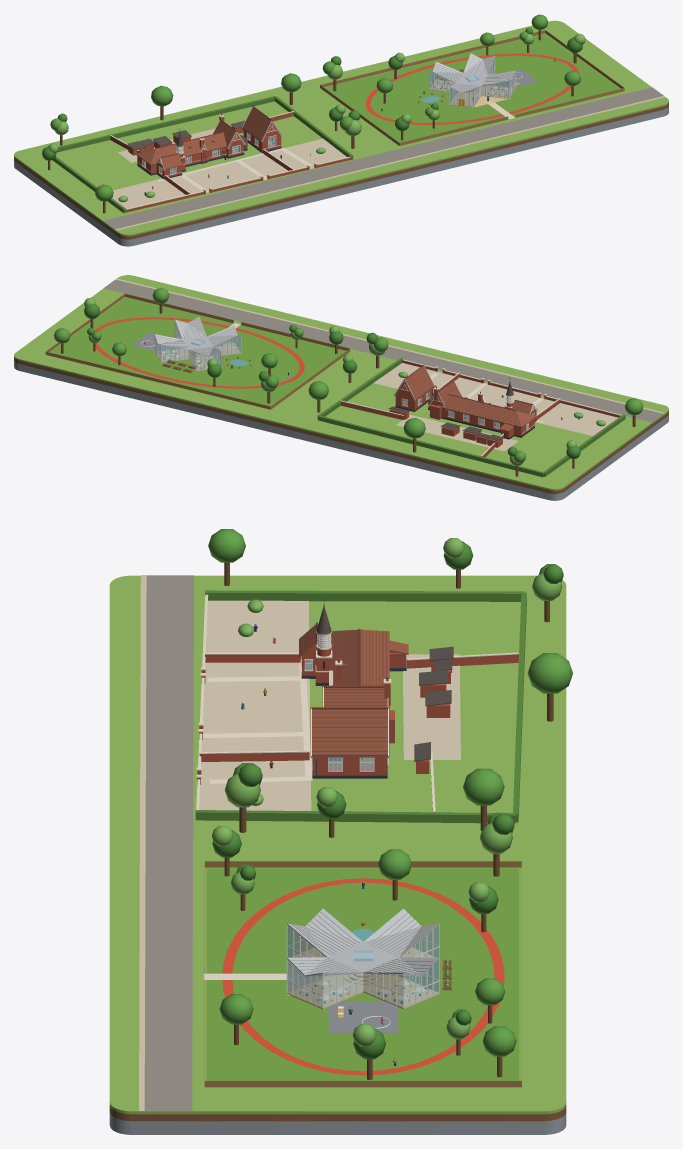
File: wrenbury.glb
The picture shows the model from 3 angles, top to bottom: view 1: azimuth 30°, elevation 25°; view 2: azimuth 150°, elevation 25°; view 3: azimuth 270°, elevation 25°; orthographic projection. The views are drawn at different scales.
Parts seen in each view (by area): view 1: m_part_ground__grass, m_part_mod_ground__grass2_ink_open, m_part_ground__tarmac_ink_open, m_part_ground__gravel_ink_open, m_part_ground__clay, m_part_ground__soil, m_part_ground__hedge_ink, m_part_mod_ground__larch_dark_ink, m_part_mod_roof__zinc_ink, m_part_roof__tile_ink, m_track__track_ink_open, m_part_mod_walls__glass_open (+17 smaller); view 2: m_part_ground__grass, m_part_mod_ground__grass2_ink_open, m_part_ground__tarmac_ink_open, m_part_ground__gravel_ink_open, m_part_ground__clay, m_part_ground__soil, m_part_ground__hedge_ink, m_part_mod_ground__larch_dark_ink, m_part_roof__tile_ink, m_part_mod_roof__zinc_ink, m_track__track_ink_open, m_part_ground__leaf (+17 smaller); view 3: m_part_ground__grass, m_part_mod_ground__grass2_ink_open, m_part_ground__tarmac_ink_open, m_part_ground__gravel_ink_open, m_part_ground__hedge_ink, m_part_mod_roof__zinc_ink, m_part_ground__clay, m_part_mod_walls__glass_open, m_part_mod_ground__larch_dark_ink, m_part_roof__tile_ink, m_track__track_ink_open, m_part_ground__leaf (+20 smaller).
Boxes of the visible parts, x1,y1,x2,y2 form: m_part_ground__grass: [14, 20, 668, 236]; m_part_mod_ground__grass2_ink_open: [324, 34, 619, 142]; m_part_ground__tarmac_ink_open: [103, 87, 663, 229]; m_part_ground__gravel_ink_open: [112, 96, 665, 230]; m_part_ground__clay: [14, 106, 668, 246]; m_part_ground__soil: [14, 103, 668, 239]; m_part_ground__hedge_ink: [52, 96, 353, 213]; m_part_mod_ground__larch_dark_ink: [320, 30, 624, 145]; m_part_mod_roof__zinc_ink: [429, 53, 515, 93]; m_part_roof__tile_ink: [135, 120, 244, 169]; m_track__track_ink_open: [365, 53, 579, 124]; m_part_mod_walls__glass_open: [429, 57, 515, 106]; m_part_ground__grass: [14, 275, 668, 490]; m_part_mod_ground__grass2_ink_open: [50, 297, 345, 406]; m_part_ground__tarmac_ink_open: [104, 279, 663, 422]; m_part_ground__gravel_ink_open: [115, 278, 664, 451]; m_part_ground__clay: [14, 361, 668, 500]; m_part_ground__soil: [14, 357, 668, 493]; m_part_ground__hedge_ink: [317, 358, 625, 477]; m_part_mod_ground__larch_dark_ink: [45, 293, 350, 409]; m_part_roof__tile_ink: [429, 381, 537, 427]; m_part_mod_roof__zinc_ink: [154, 316, 240, 357]; m_track__track_ink_open: [92, 317, 304, 388]; m_part_ground__leaf: [308, 337, 643, 462]; m_part_ground__grass: [109, 575, 566, 1114]; m_part_mod_ground__grass2_ink_open: [206, 868, 519, 1080]; m_part_ground__tarmac_ink_open: [144, 575, 193, 1110]; m_part_ground__gravel_ink_open: [139, 575, 460, 1110]; m_part_ground__hedge_ink: [195, 590, 526, 823]; m_part_mod_roof__zinc_ink: [287, 908, 439, 976]; m_part_ground__clay: [109, 1112, 566, 1134]; m_part_mod_walls__glass_open: [287, 925, 439, 1007]; m_part_mod_ground__larch_dark_ink: [204, 861, 521, 1087]; m_part_roof__tile_ink: [299, 624, 389, 713]; m_track__track_ink_open: [222, 878, 504, 1075]; m_part_ground__leaf: [208, 529, 572, 805].
Bounding box in the file's own units: 200 × 18.95 × 73.1.
